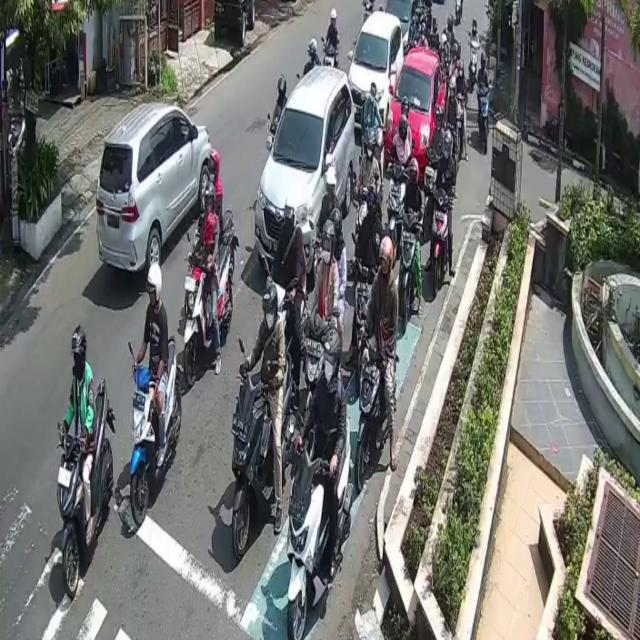car: (255, 63, 356, 273), (96, 100, 210, 276), (386, 46, 446, 180), (350, 11, 404, 127), (383, 0, 422, 52)
motorbike: (287, 411, 353, 640), (56, 378, 113, 598), (233, 360, 295, 559), (130, 332, 182, 527), (181, 240, 231, 385), (359, 343, 399, 489), (397, 212, 418, 333), (430, 191, 450, 300), (477, 84, 492, 156)
